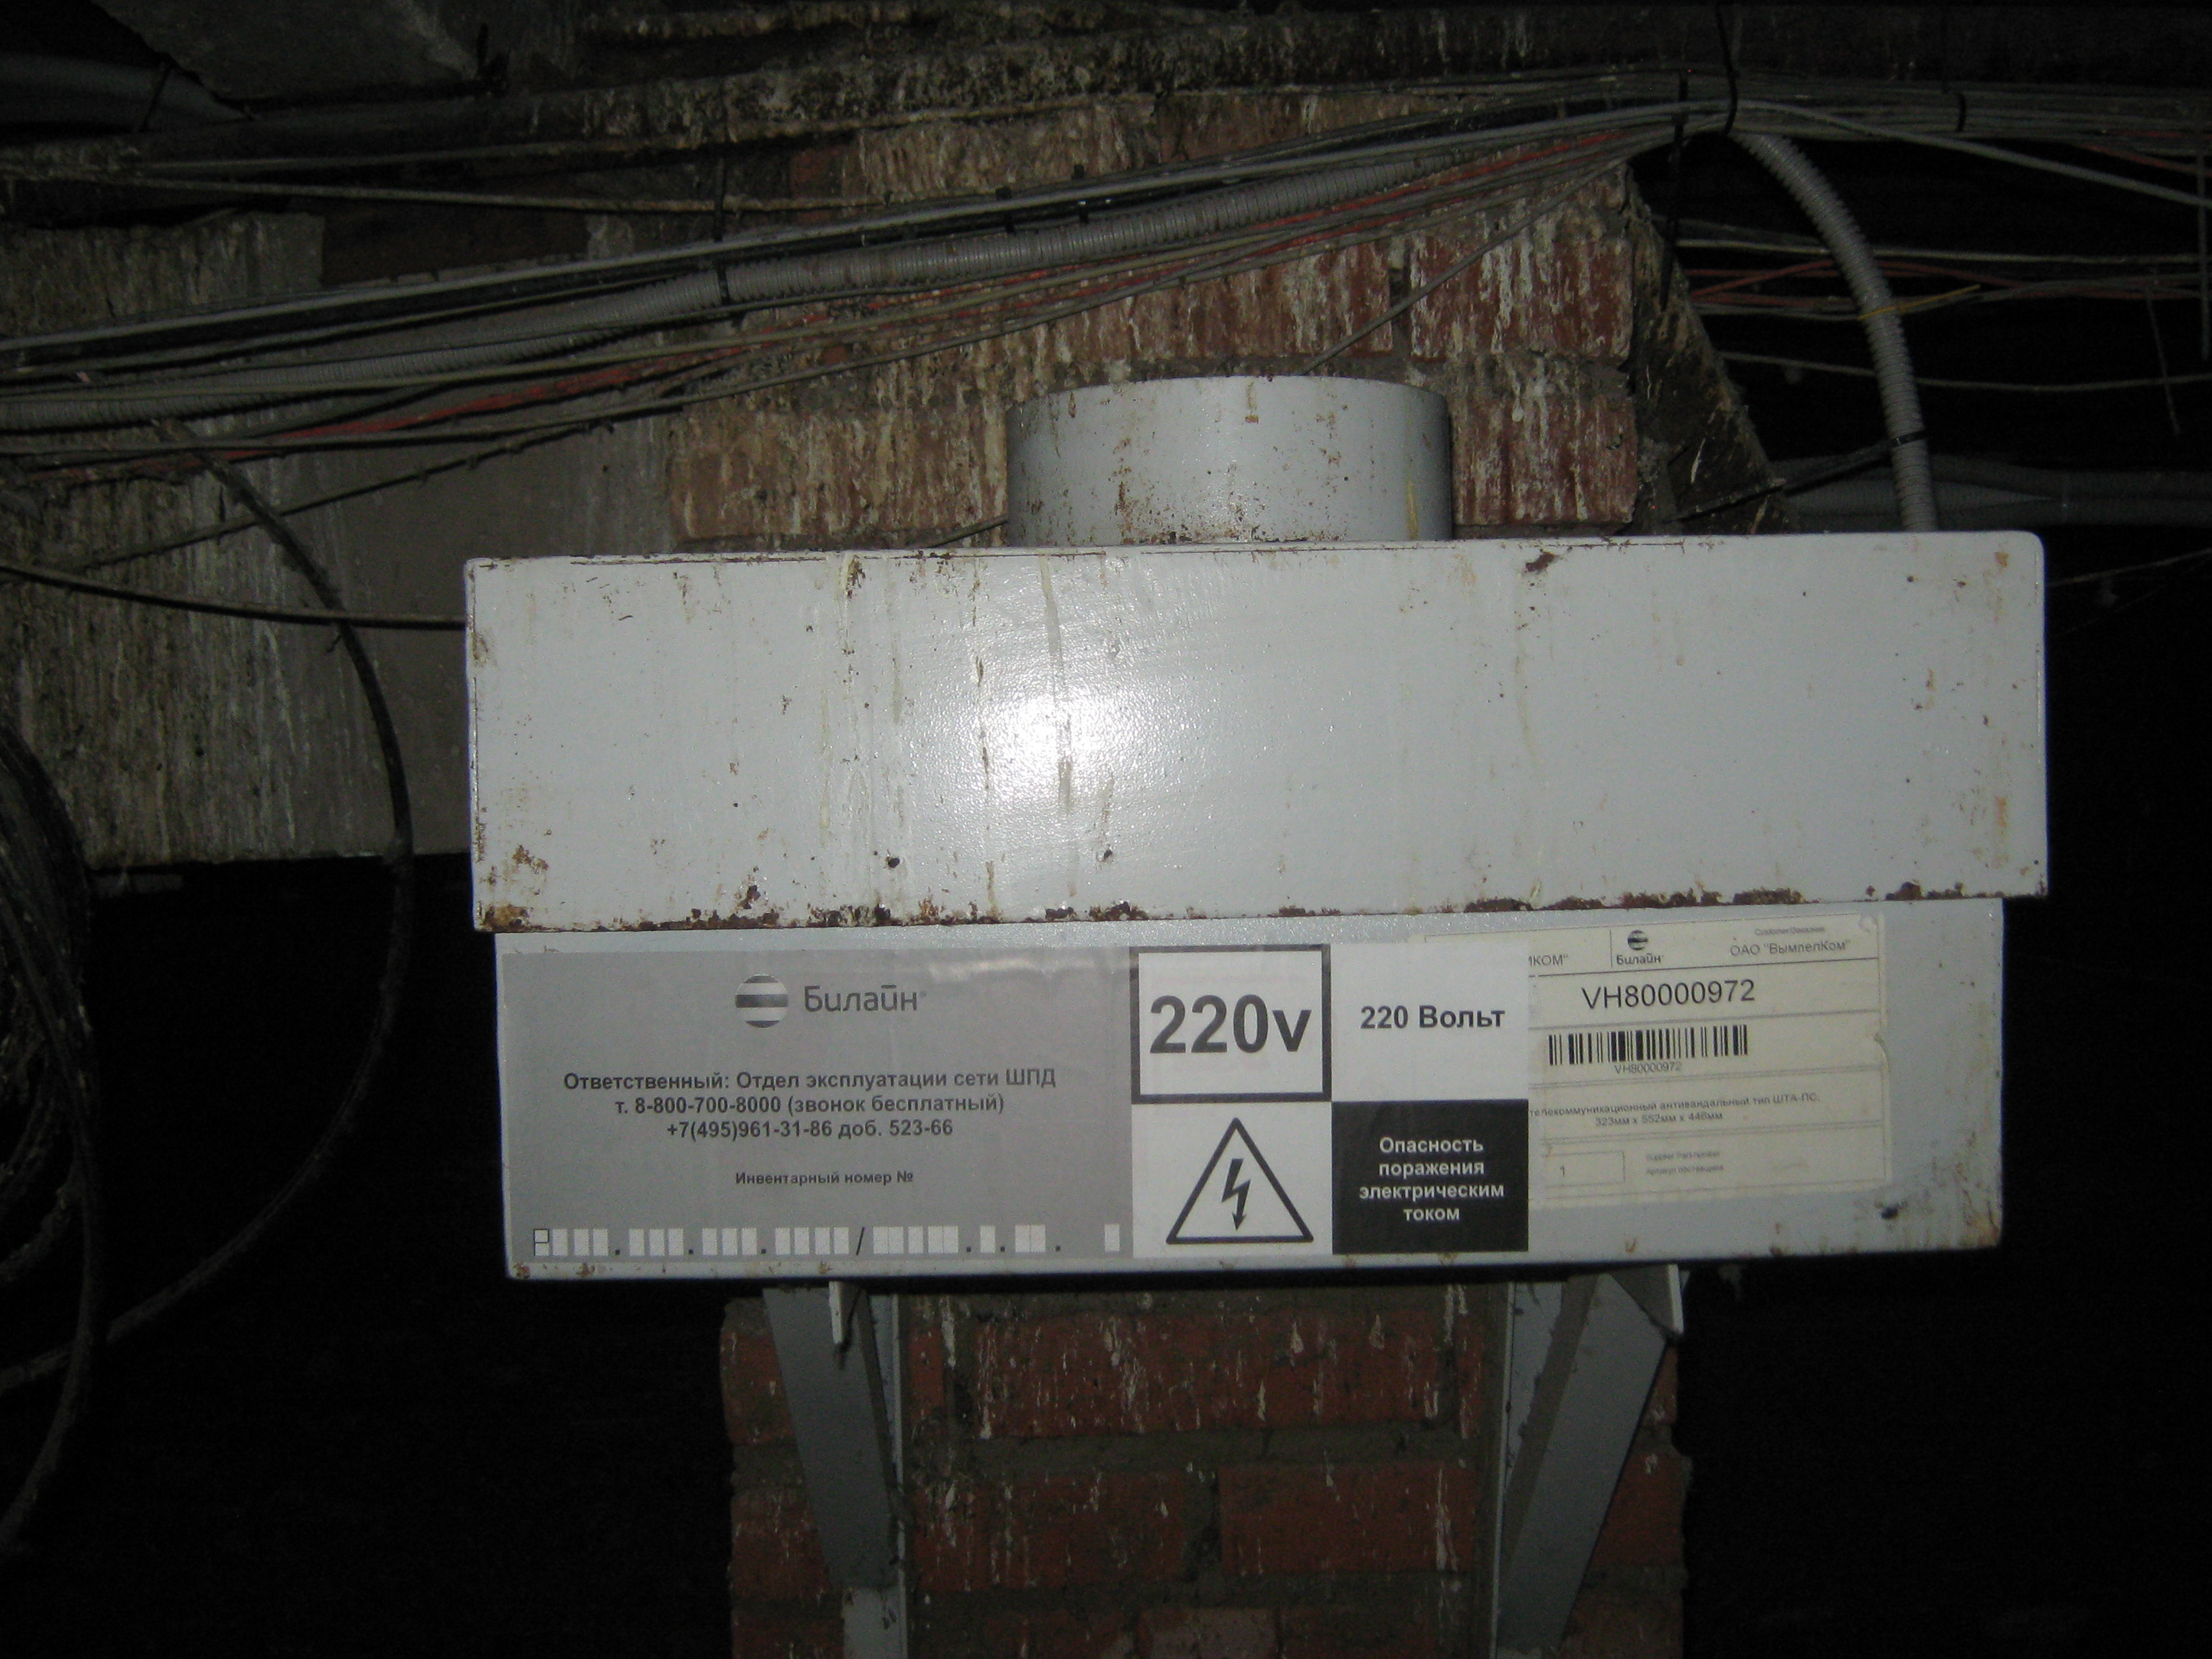shta-ps: (455, 345, 2069, 1307)
